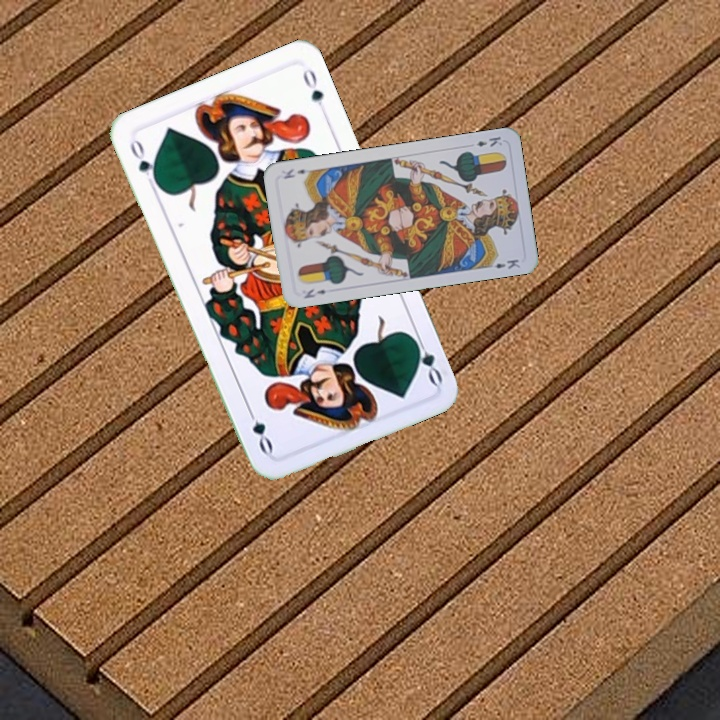EK: (472, 132, 505, 149), (300, 285, 329, 301)
GO: (407, 330, 445, 388), (126, 134, 161, 192)
